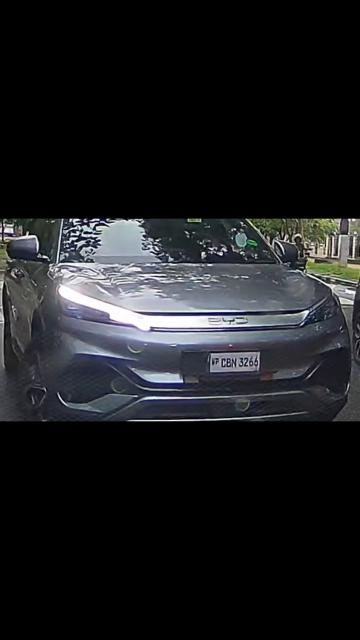number plate: (201, 343, 272, 387)
